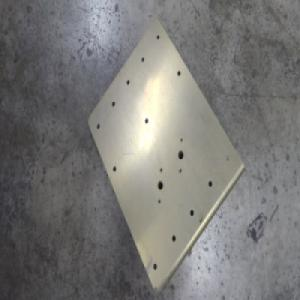MetalSheet: (86, 16, 246, 293)
